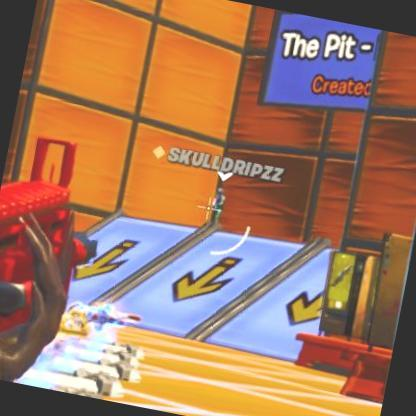person: (205, 184, 227, 226)
